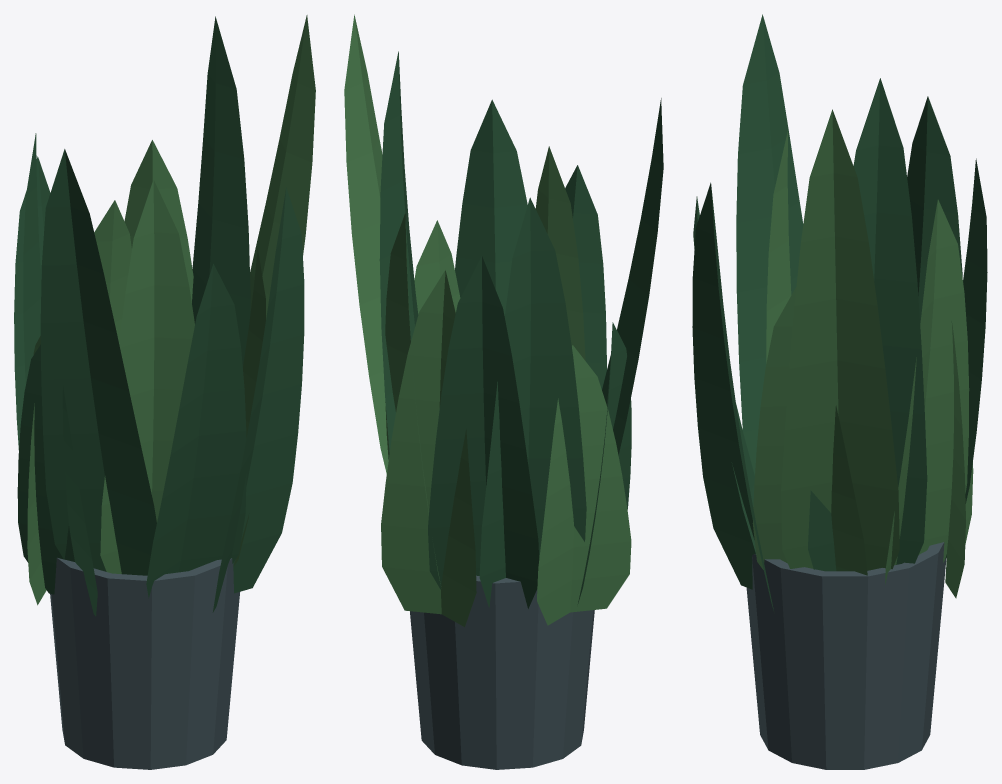
The model's file is Office_Indoor_Plant_SnakePlant.glb.
3 renders of one model, left to right at view 1: azimuth 30°, elevation 25°; view 2: azimuth 150°, elevation 25°; view 3: azimuth 270°, elevation 25°, orthographic. The views are drawn at different scales.
Parts seen in each view (by area): view 1: Pot_Body, Snake_Blade_11, Snake_Blade_1, Snake_Blade_9, Snake_Blade_6, Snake_Blade_7, Snake_Blade_3, Snake_Blade_12, Snake_Blade_13, Snake_Blade_2, Snake_Blade_5, Snake_Blade_10 (+2 smaller); view 2: Pot_Body, Snake_Blade_5, Snake_Blade_10, Snake_Blade_13, Snake_Blade_8, Snake_Blade_12, Snake_Blade_9, Snake_Blade_7, Snake_Blade_11, Snake_Blade_1, Snake_Blade_6, Snake_Blade_2 (+2 smaller); view 3: Pot_Body, Snake_Blade_12, Snake_Blade_7, Snake_Blade_11, Snake_Blade_9, Snake_Blade_2, Snake_Blade_4, Snake_Blade_13, Snake_Blade_5, Snake_Blade_10, Snake_Blade_6, Snake_Blade_1.
Boxes of the visible parts, left/top/right/bottom form: Pot_Body: left=50, top=558, right=239, bottom=769; Snake_Blade_11: left=40, top=149, right=156, bottom=575; Snake_Blade_1: left=146, top=263, right=246, bottom=598; Snake_Blade_9: left=212, top=187, right=304, bottom=612; Snake_Blade_6: left=100, top=179, right=194, bottom=573; Snake_Blade_7: left=192, top=16, right=250, bottom=367; Snake_Blade_3: left=17, top=344, right=97, bottom=616; Snake_Blade_12: left=250, top=15, right=315, bottom=319; Snake_Blade_13: left=23, top=133, right=41, bottom=383; Snake_Blade_2: left=124, top=140, right=193, bottom=302; Snake_Blade_5: left=14, top=156, right=50, bottom=449; Snake_Blade_10: left=94, top=200, right=131, bottom=343; Pot_Body: left=410, top=575, right=594, bottom=769; Snake_Blade_5: left=428, top=256, right=539, bottom=608; Snake_Blade_10: left=381, top=270, right=476, bottom=627; Snake_Blade_13: left=479, top=197, right=586, bottom=607; Snake_Blade_8: left=537, top=345, right=631, bottom=625; Snake_Blade_12: left=344, top=14, right=388, bottom=473; Snake_Blade_9: left=455, top=99, right=527, bottom=315; Snake_Blade_7: left=379, top=51, right=418, bottom=451; Snake_Blade_11: left=602, top=98, right=663, bottom=455; Snake_Blade_1: left=565, top=165, right=606, bottom=389; Snake_Blade_6: left=535, top=146, right=585, bottom=360; Snake_Blade_2: left=385, top=213, right=441, bottom=586; Pot_Body: left=746, top=542, right=946, bottom=769; Snake_Blade_12: left=781, top=109, right=899, bottom=570; Snake_Blade_7: left=808, top=78, right=927, bottom=571; Snake_Blade_11: left=736, top=14, right=803, bottom=475; Snake_Blade_9: left=692, top=182, right=773, bottom=610; Snake_Blade_2: left=885, top=199, right=969, bottom=584; Snake_Blade_4: left=752, top=287, right=867, bottom=575; Snake_Blade_13: left=907, top=96, right=962, bottom=323; Snake_Blade_5: left=945, top=158, right=987, bottom=558; Snake_Blade_10: left=945, top=321, right=973, bottom=598; Snake_Blade_6: left=766, top=131, right=791, bottom=363; Snake_Blade_1: left=693, top=196, right=756, bottom=554.
Bounding box in the file's own units: 0.459 × 1.05 × 0.3988.
